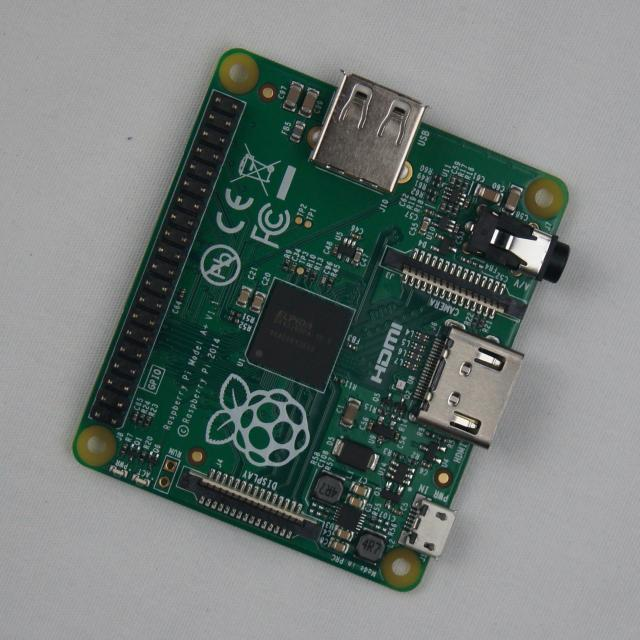Raspberry-Pi-1-A-: (74, 50, 569, 590)
